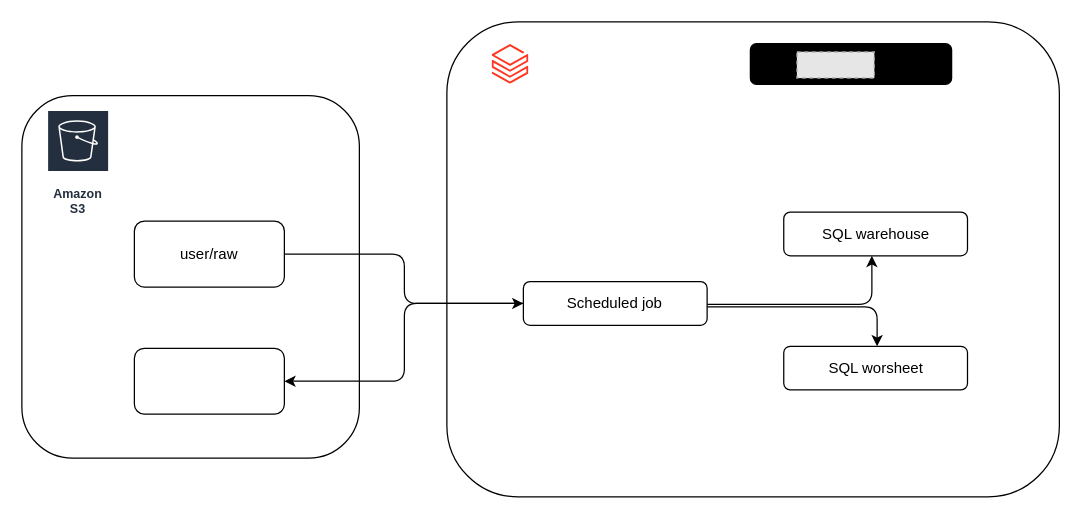
The diagram is 1081 pixels wide and 519 high, and some of its shapes have lost their labels. Grey dashed boxes stand in for pictures. Each missing label, with the centre of its shape:
Databricks: (x=510, y=64)
user/transformed: (x=208, y=380)
